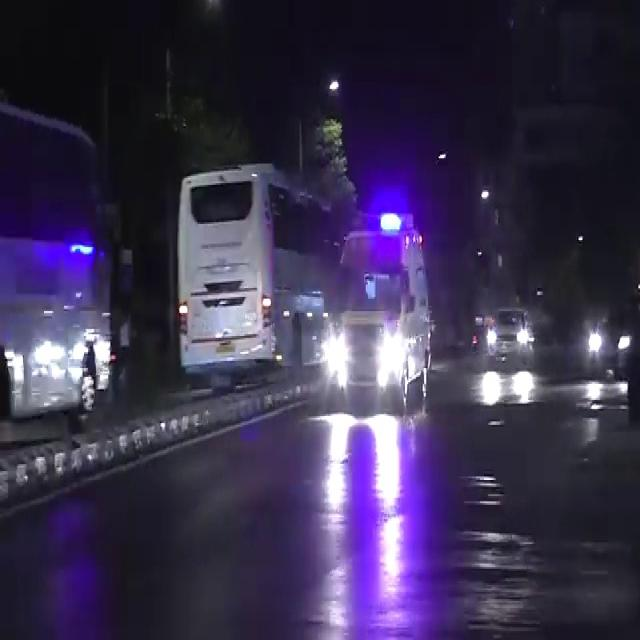ambulance: (325, 200, 437, 404)
